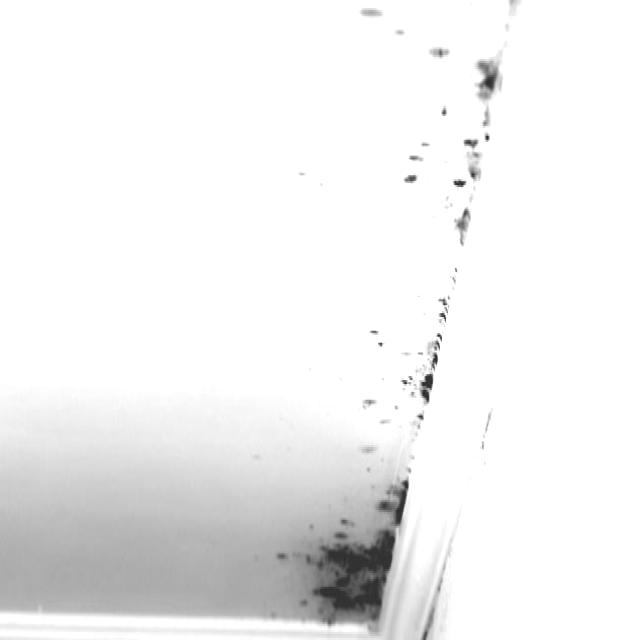stain marks: (250, 0, 520, 640)
